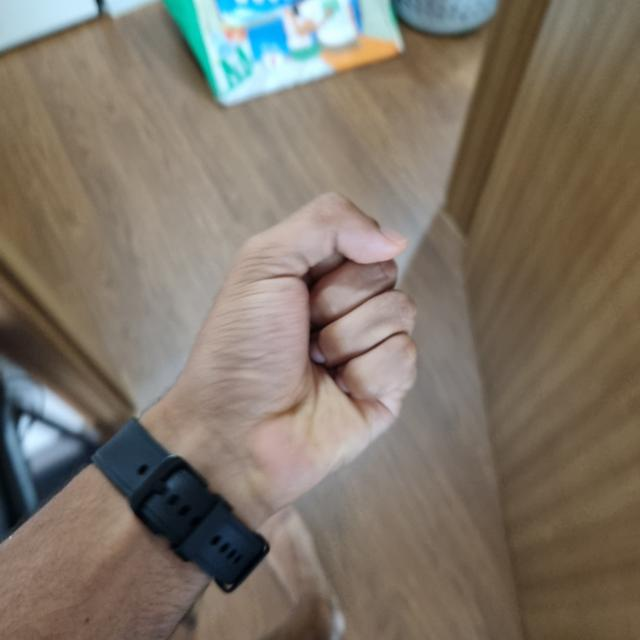Rock: (161, 194, 417, 519)
